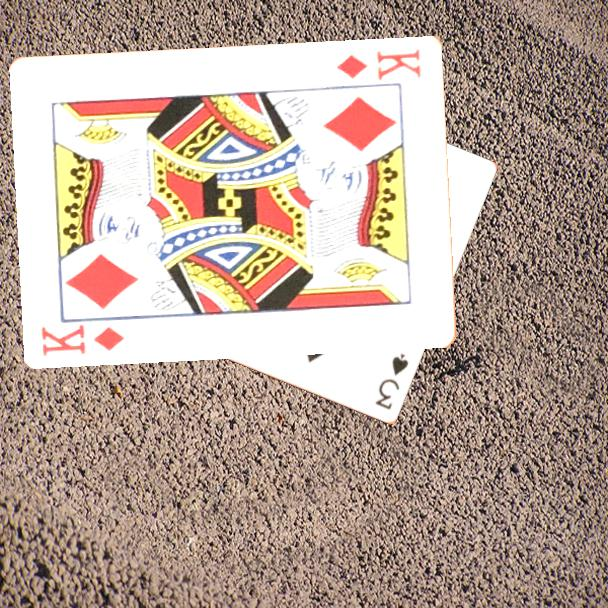d13: (334, 45, 424, 83), (38, 320, 127, 358)
s03: (372, 351, 411, 413)
